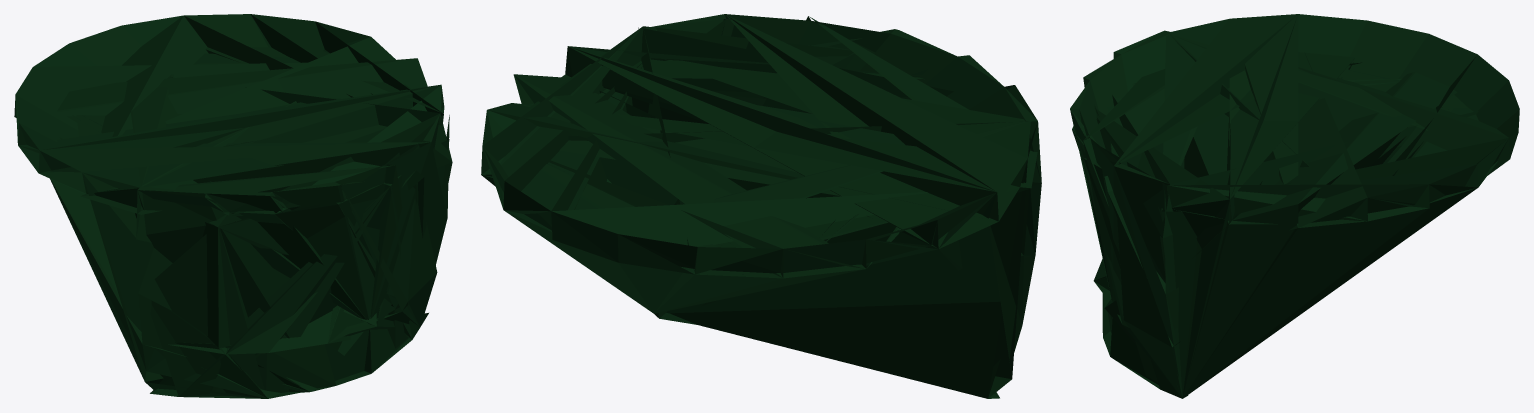
File: S.S._Dolphin_part.015.obj
3 renders of one model, left to right at view 1: azimuth 30°, elevation 25°; view 2: azimuth 150°, elevation 25°; view 3: azimuth 270°, elevation 25°, orthographic. The views are drawn at different scales.
Parts seen in each view (by area): view 1: S.S._Dolphin_part.015; view 2: S.S._Dolphin_part.015; view 3: S.S._Dolphin_part.015.
Boxes of the visible parts, x1,y1,x2,y2 form: S.S._Dolphin_part.015: (14,14,452,398); S.S._Dolphin_part.015: (481,14,1041,398); S.S._Dolphin_part.015: (1070,14,1519,398).
Size of the model in its own units: 6.14 by 3.32 by 6.1.
